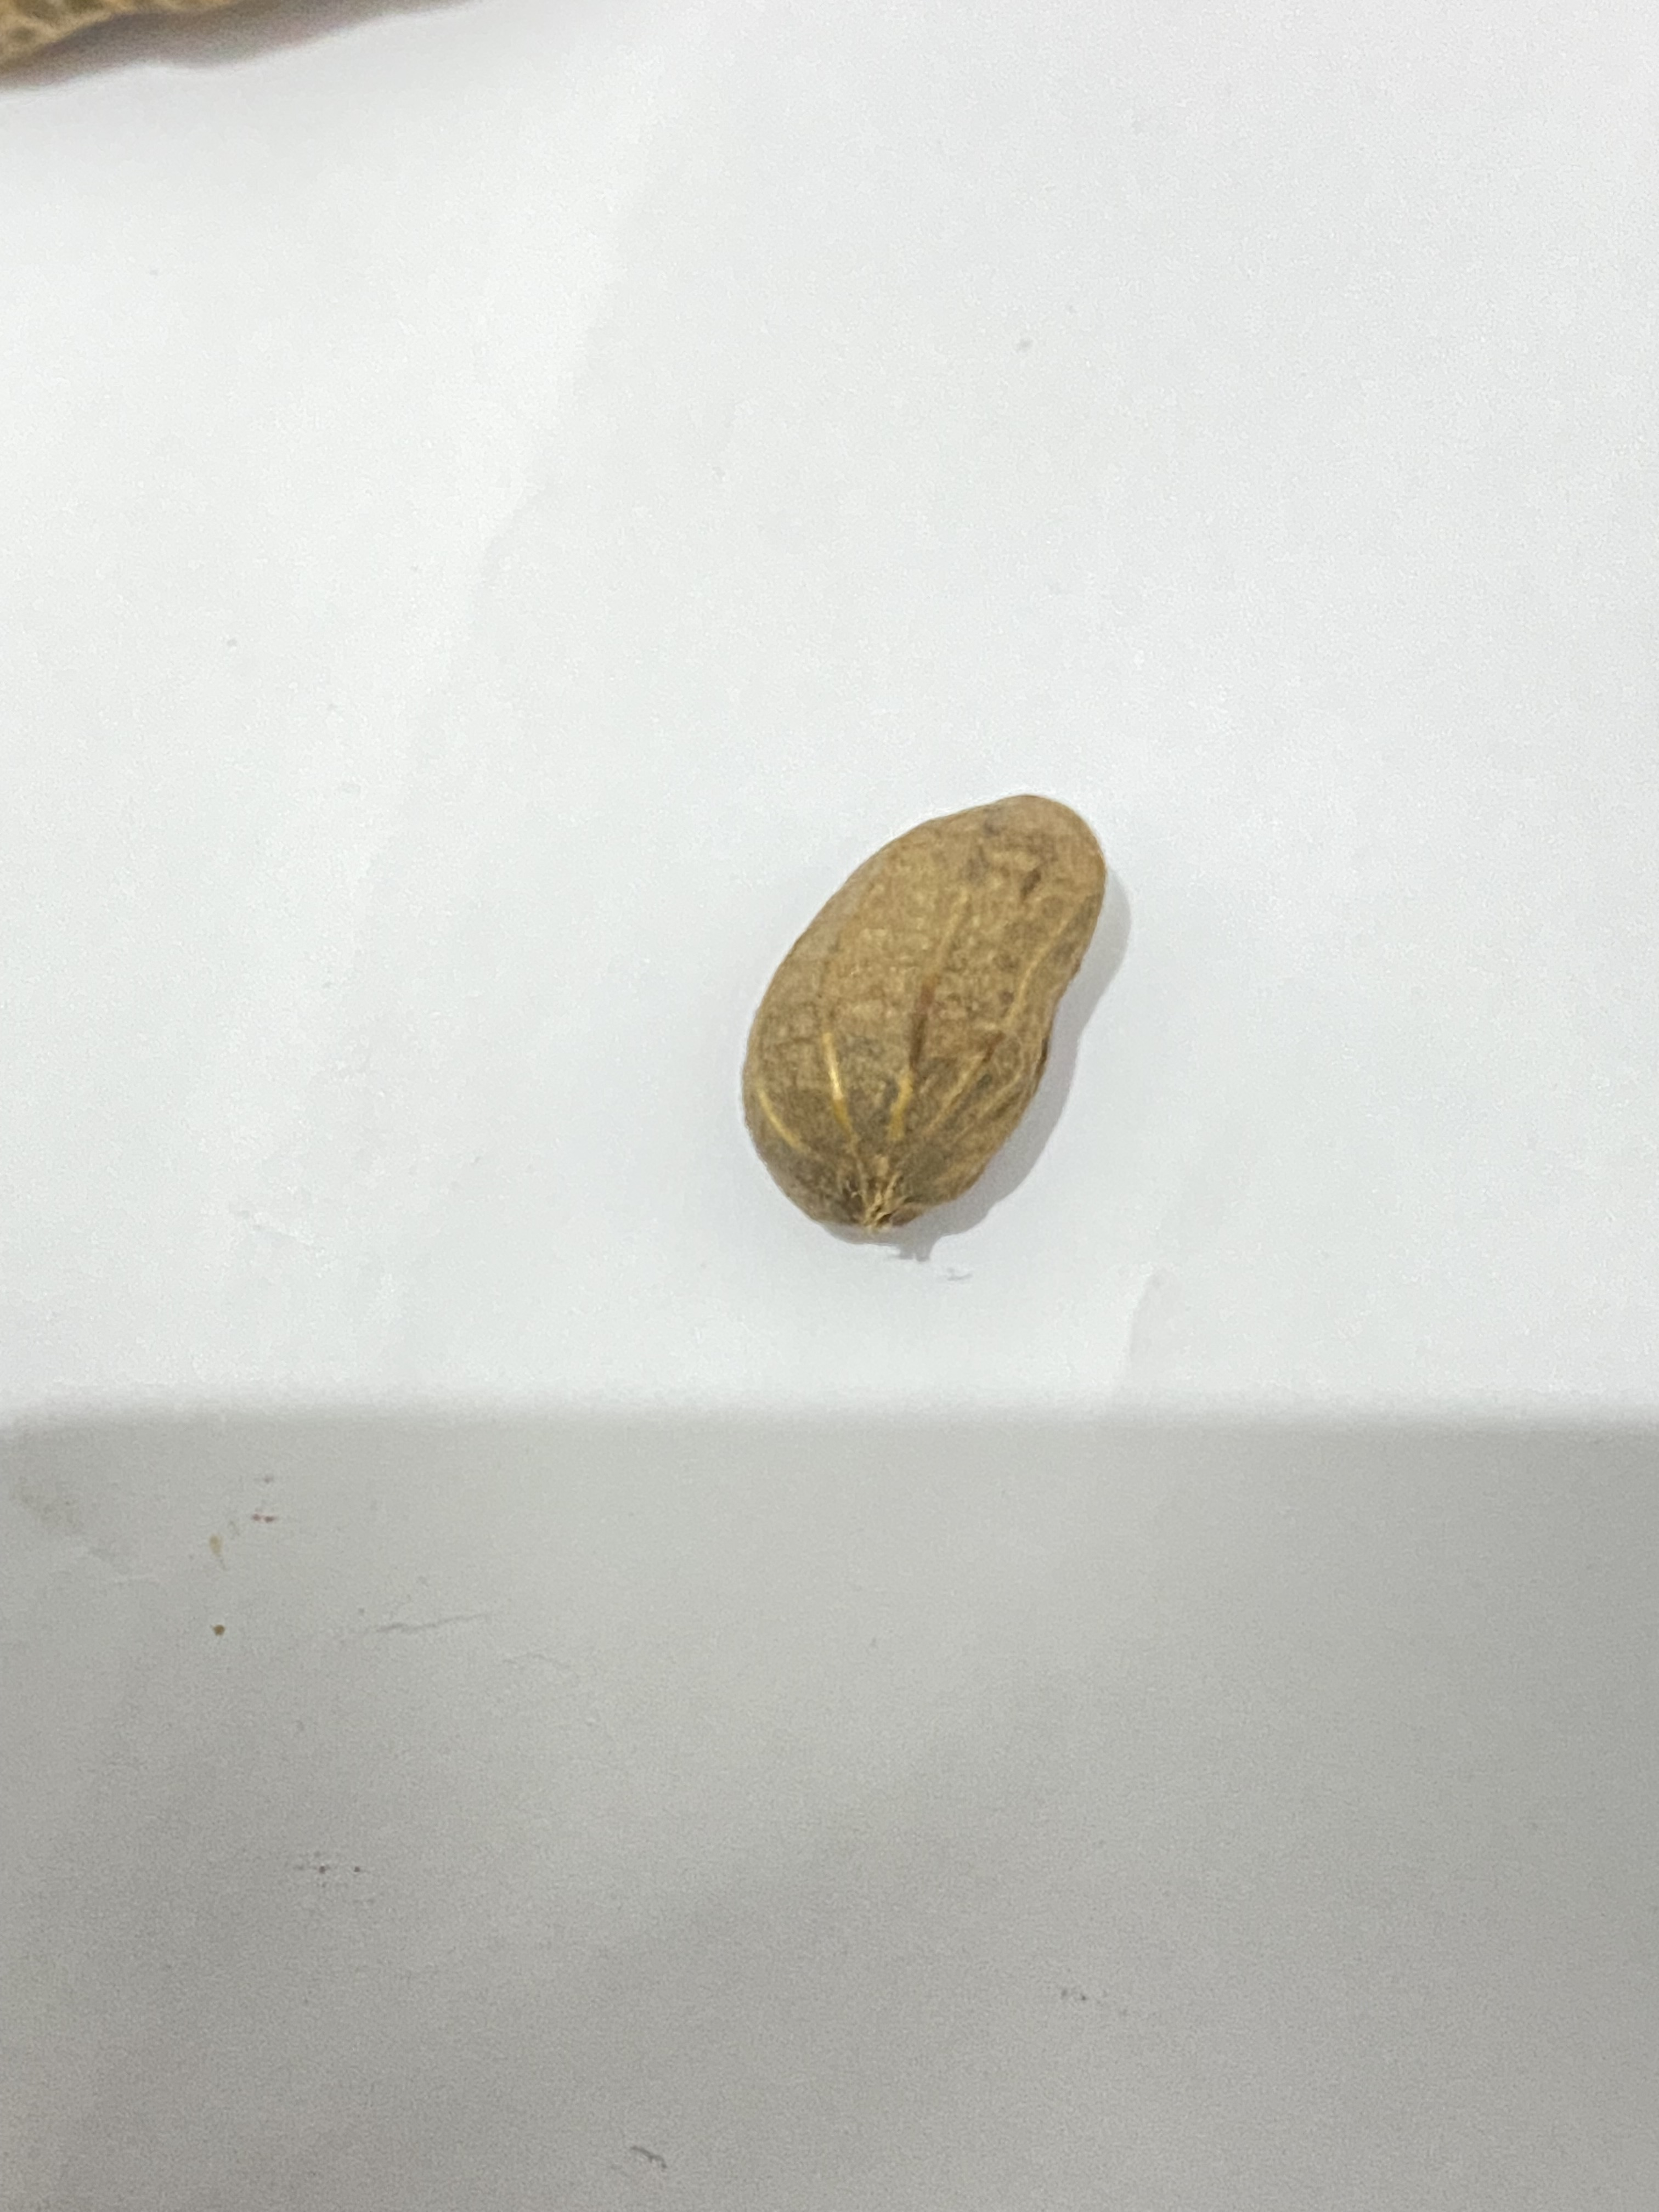kacang1: (680, 763, 1164, 1258)
